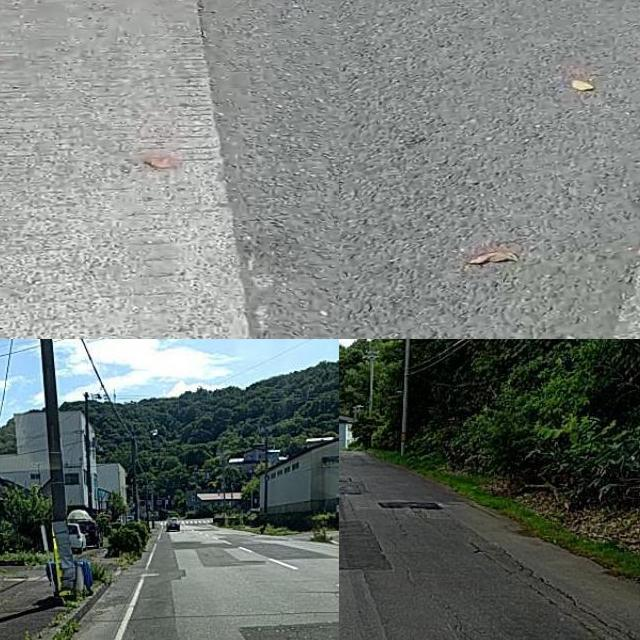Sambungan: (0, 0, 253, 339), (339, 521, 386, 567)
